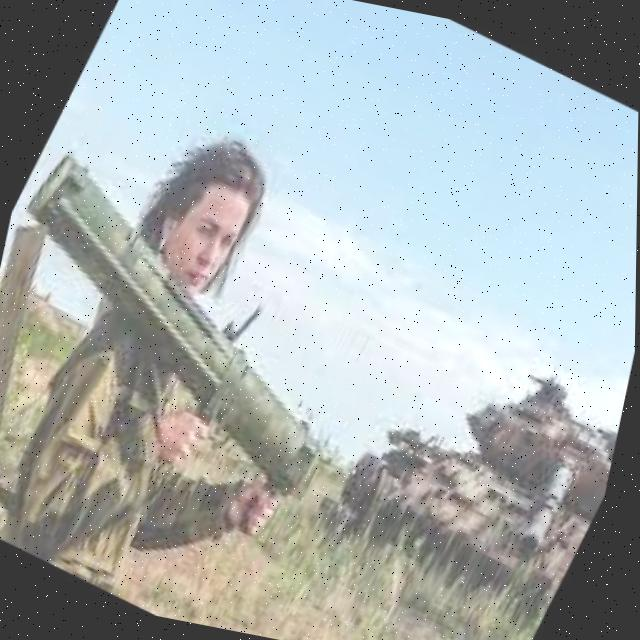rocket: (0, 136, 415, 515)
